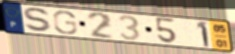1: (195, 21, 212, 49)
2: (86, 11, 117, 41)
3: (118, 14, 144, 42)
5: (154, 16, 178, 46)
G: (52, 10, 79, 36)
S: (22, 6, 56, 34)
